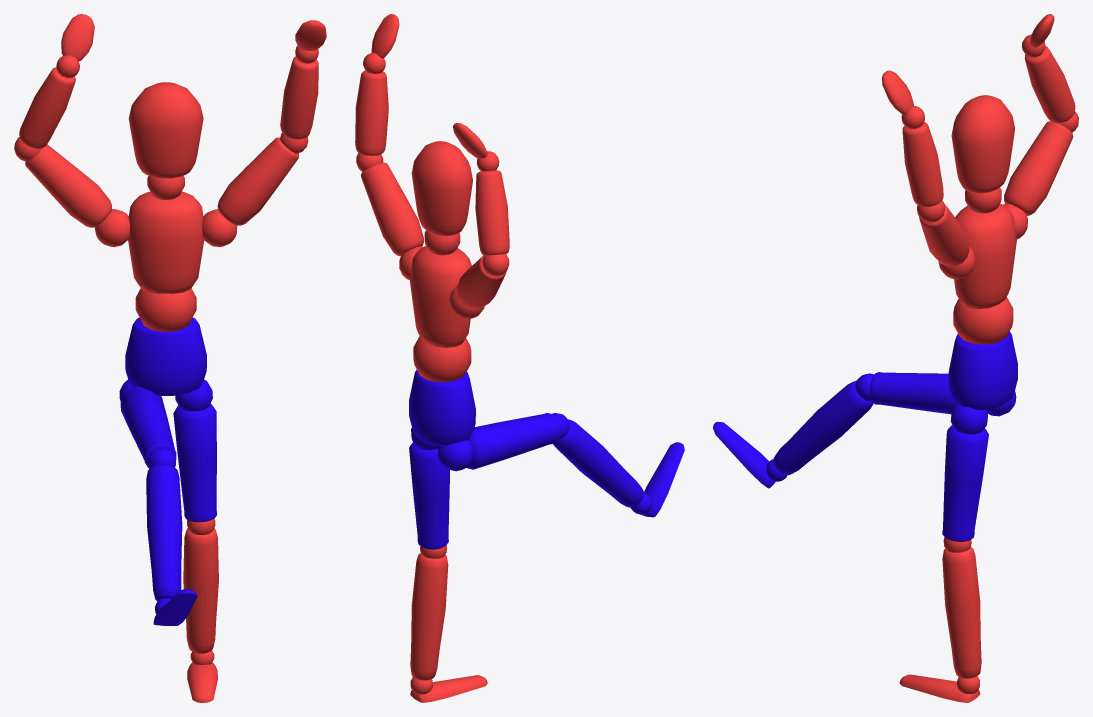
The model's file is person.dae.
The picture shows the model from 3 angles, left to right: view 1: azimuth 30°, elevation 25°; view 2: azimuth 150°, elevation 25°; view 3: azimuth 270°, elevation 25°; orthographic projection. The views are drawn at different scales.
Parts seen in each view (by area): view 1: 上体, 头部, 人偶, 右_小腿, 左_大腿, 左_小腿, 右_上臂, 左_上臂, 右_大腿, 右_下臂, 左_下臂, 关节 (+7 smaller); view 2: 头部, 上体, 人偶, 左_小腿, 左_大腿, 右_大腿, 左_上臂, 右_小腿, 右_下臂, 左_下臂, 关节, 右_上臂 (+6 smaller); view 3: 头部, 上体, 人偶, 左_小腿, 左_大腿, 右_小腿, 右_上臂, 右_大腿, 左_下臂, 右_下臂, 关节, 左_上臂 (+5 smaller).
Boxes of the visible parts, bbox=[...] form: 上体: bbox=[128, 191, 204, 293]; 头部: bbox=[128, 82, 203, 178]; 人偶: bbox=[125, 317, 206, 395]; 右_小腿: bbox=[146, 465, 182, 600]; 左_大腿: bbox=[173, 403, 216, 522]; 左_小腿: bbox=[183, 528, 218, 653]; 右_上臂: bbox=[25, 144, 111, 227]; 左_上臂: bbox=[217, 137, 298, 225]; 右_大腿: bbox=[120, 386, 176, 468]; 右_下臂: bbox=[19, 67, 75, 148]; 左_下臂: bbox=[280, 56, 318, 139]; 关节: bbox=[135, 288, 196, 331]; 头部: bbox=[411, 141, 472, 236]; 上体: bbox=[410, 246, 471, 347]; 人偶: bbox=[409, 369, 475, 445]; 左_小腿: bbox=[410, 553, 448, 680]; 左_大腿: bbox=[409, 442, 449, 549]; 右_大腿: bbox=[466, 413, 560, 469]; 左_上臂: bbox=[360, 162, 423, 256]; 右_小腿: bbox=[553, 419, 643, 507]; 右_下臂: bbox=[475, 170, 509, 255]; 左_下臂: bbox=[355, 70, 388, 155]; 关节: bbox=[413, 336, 471, 382]; 右_上臂: bbox=[456, 255, 506, 309]; 头部: bbox=[951, 95, 1014, 193]; 上体: bbox=[954, 203, 1016, 309]; 人偶: bbox=[948, 331, 1017, 410]; 左_小腿: bbox=[942, 546, 981, 678]; 左_大腿: bbox=[942, 425, 988, 541]; 右_小腿: bbox=[773, 380, 873, 475]; 右_上臂: bbox=[1004, 121, 1073, 215]; 右_大腿: bbox=[870, 372, 955, 414]; 左_下臂: bbox=[902, 122, 943, 207]; 右_下臂: bbox=[1024, 46, 1075, 123]; 关节: bbox=[953, 297, 1013, 344]; 左_上臂: bbox=[919, 204, 969, 266].
Size of the model in its own units: 256 by 677 by 340.
